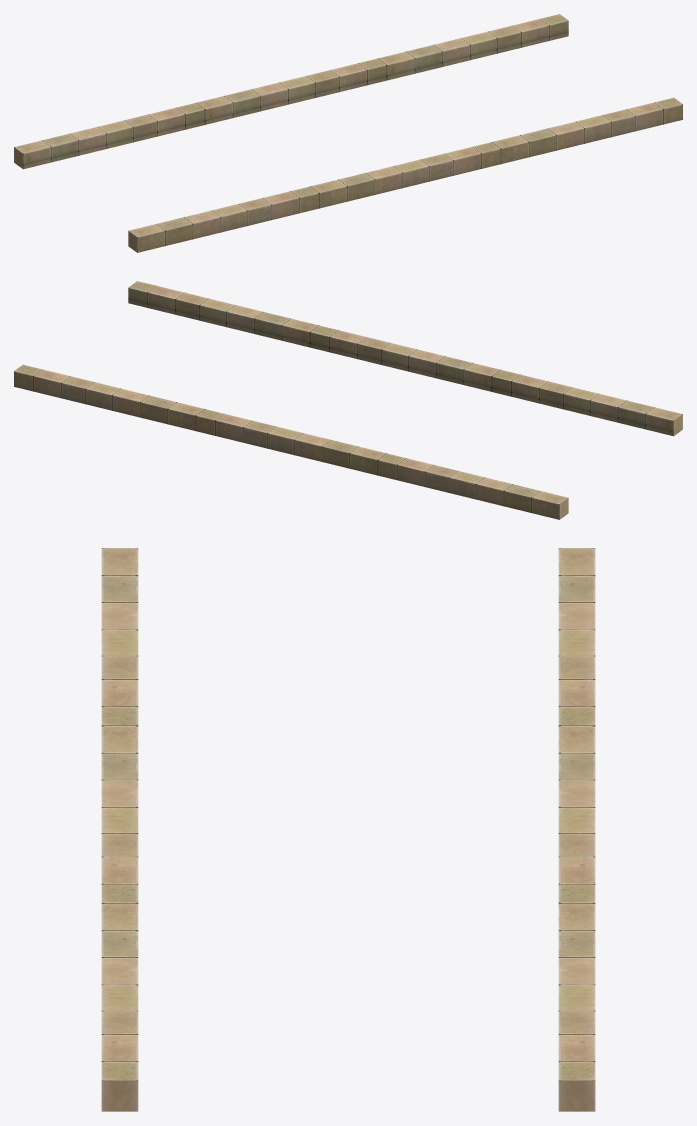
Rendered from CourseStraightLong_Border.fbx.
The picture shows the model from 3 angles, top to bottom: view 1: azimuth 30°, elevation 25°; view 2: azimuth 150°, elevation 25°; view 3: azimuth 270°, elevation 25°; orthographic projection. The views are drawn at different scales.
Visible parts, largest first — view 1: CourseStraightLong_Border; view 2: CourseStraightLong_Border; view 3: CourseStraightLong_Border.
Part boxes in pixels (x1,y1,x2,y2): CourseStraightLong_Border: (14, 14, 682, 252); CourseStraightLong_Border: (14, 281, 682, 519); CourseStraightLong_Border: (101, 548, 595, 1111).
Bounding box in the file's own units: 470 × 32.5 × 1200.
